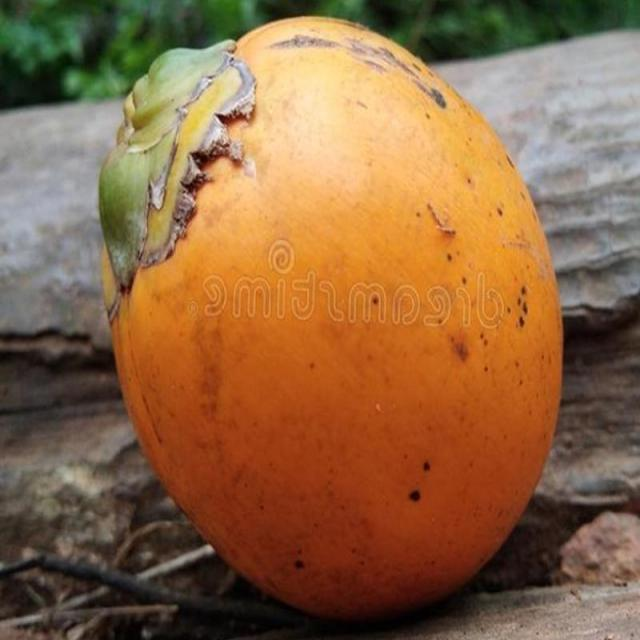good: (96, 15, 565, 628)
